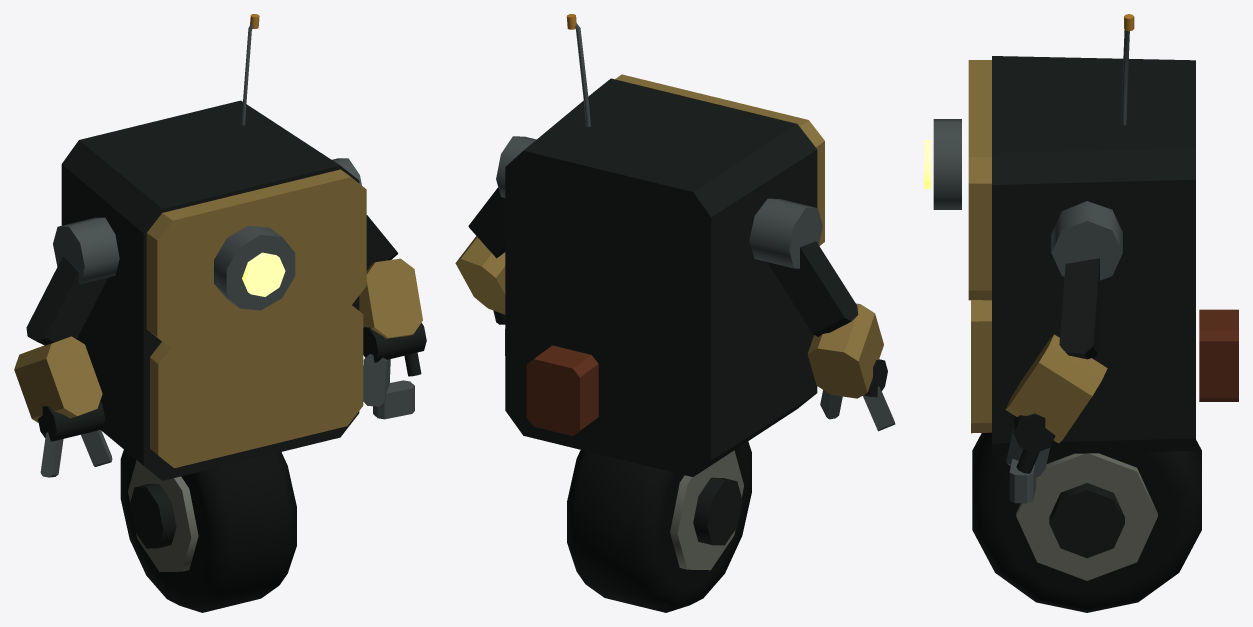
Rendered from KLONK.far.glb.
The picture shows the model from 3 angles, left to right: view 1: azimuth 30°, elevation 25°; view 2: azimuth 150°, elevation 25°; view 3: azimuth 270°, elevation 25°; orthographic projection. The views are drawn at different scales.
Visible parts, largest first — view 1: body_geometry, wheel_geometry, armL_geometry, armR_geometry; view 2: body_geometry, wheel_geometry, armL_geometry, armR_geometry; view 3: body_geometry, wheel_geometry, armR_geometry.
Boxes of the visible parts, <box> form: body_geometry: <box>61,14,366,480</box>; wheel_geometry: <box>120,450,296,612</box>; armL_geometry: <box>14,217,119,477</box>; armR_geometry: <box>332,158,426,419</box>; body_geometry: <box>505,14,824,476</box>; wheel_geometry: <box>567,441,751,612</box>; armL_geometry: <box>749,198,895,431</box>; armR_geometry: <box>455,136,536,355</box>; body_geometry: <box>924,14,1238,455</box>; wheel_geometry: <box>972,432,1201,612</box>; armR_geometry: <box>1005,201,1122,503</box>.
Size of the model in its own units: 0.5882 by 0.8005 by 0.3707.
2 materials, 1 textured.
